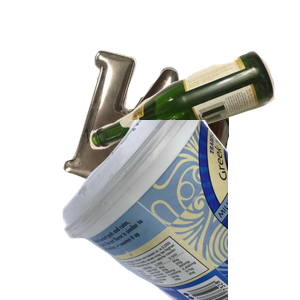glass: (87, 48, 300, 190)
metal: (60, 47, 300, 227)
plastic: (60, 120, 300, 300)
trash: (65, 145, 242, 300)
